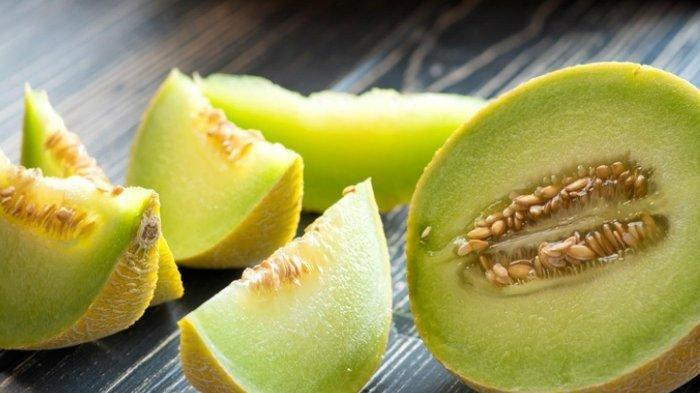Melon: (233, 200, 400, 393), (1, 179, 182, 353), (153, 74, 310, 249)
